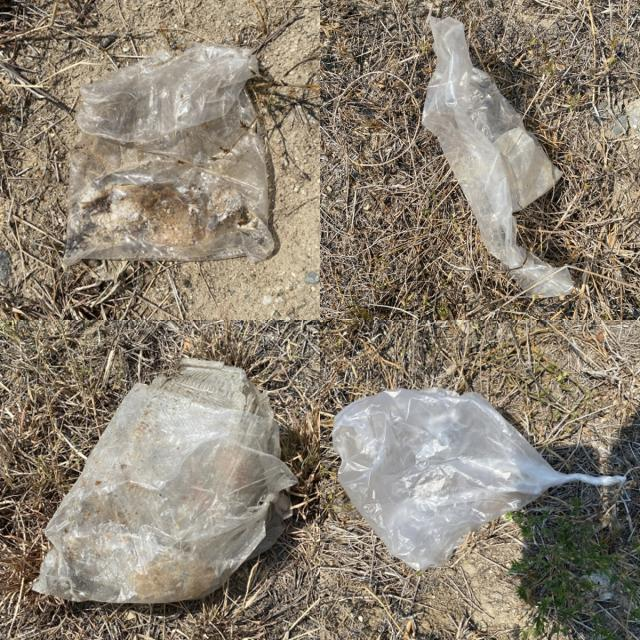Single-layer Plastic: (32, 359, 296, 603), (332, 388, 625, 570), (64, 44, 274, 265), (422, 18, 572, 297)
